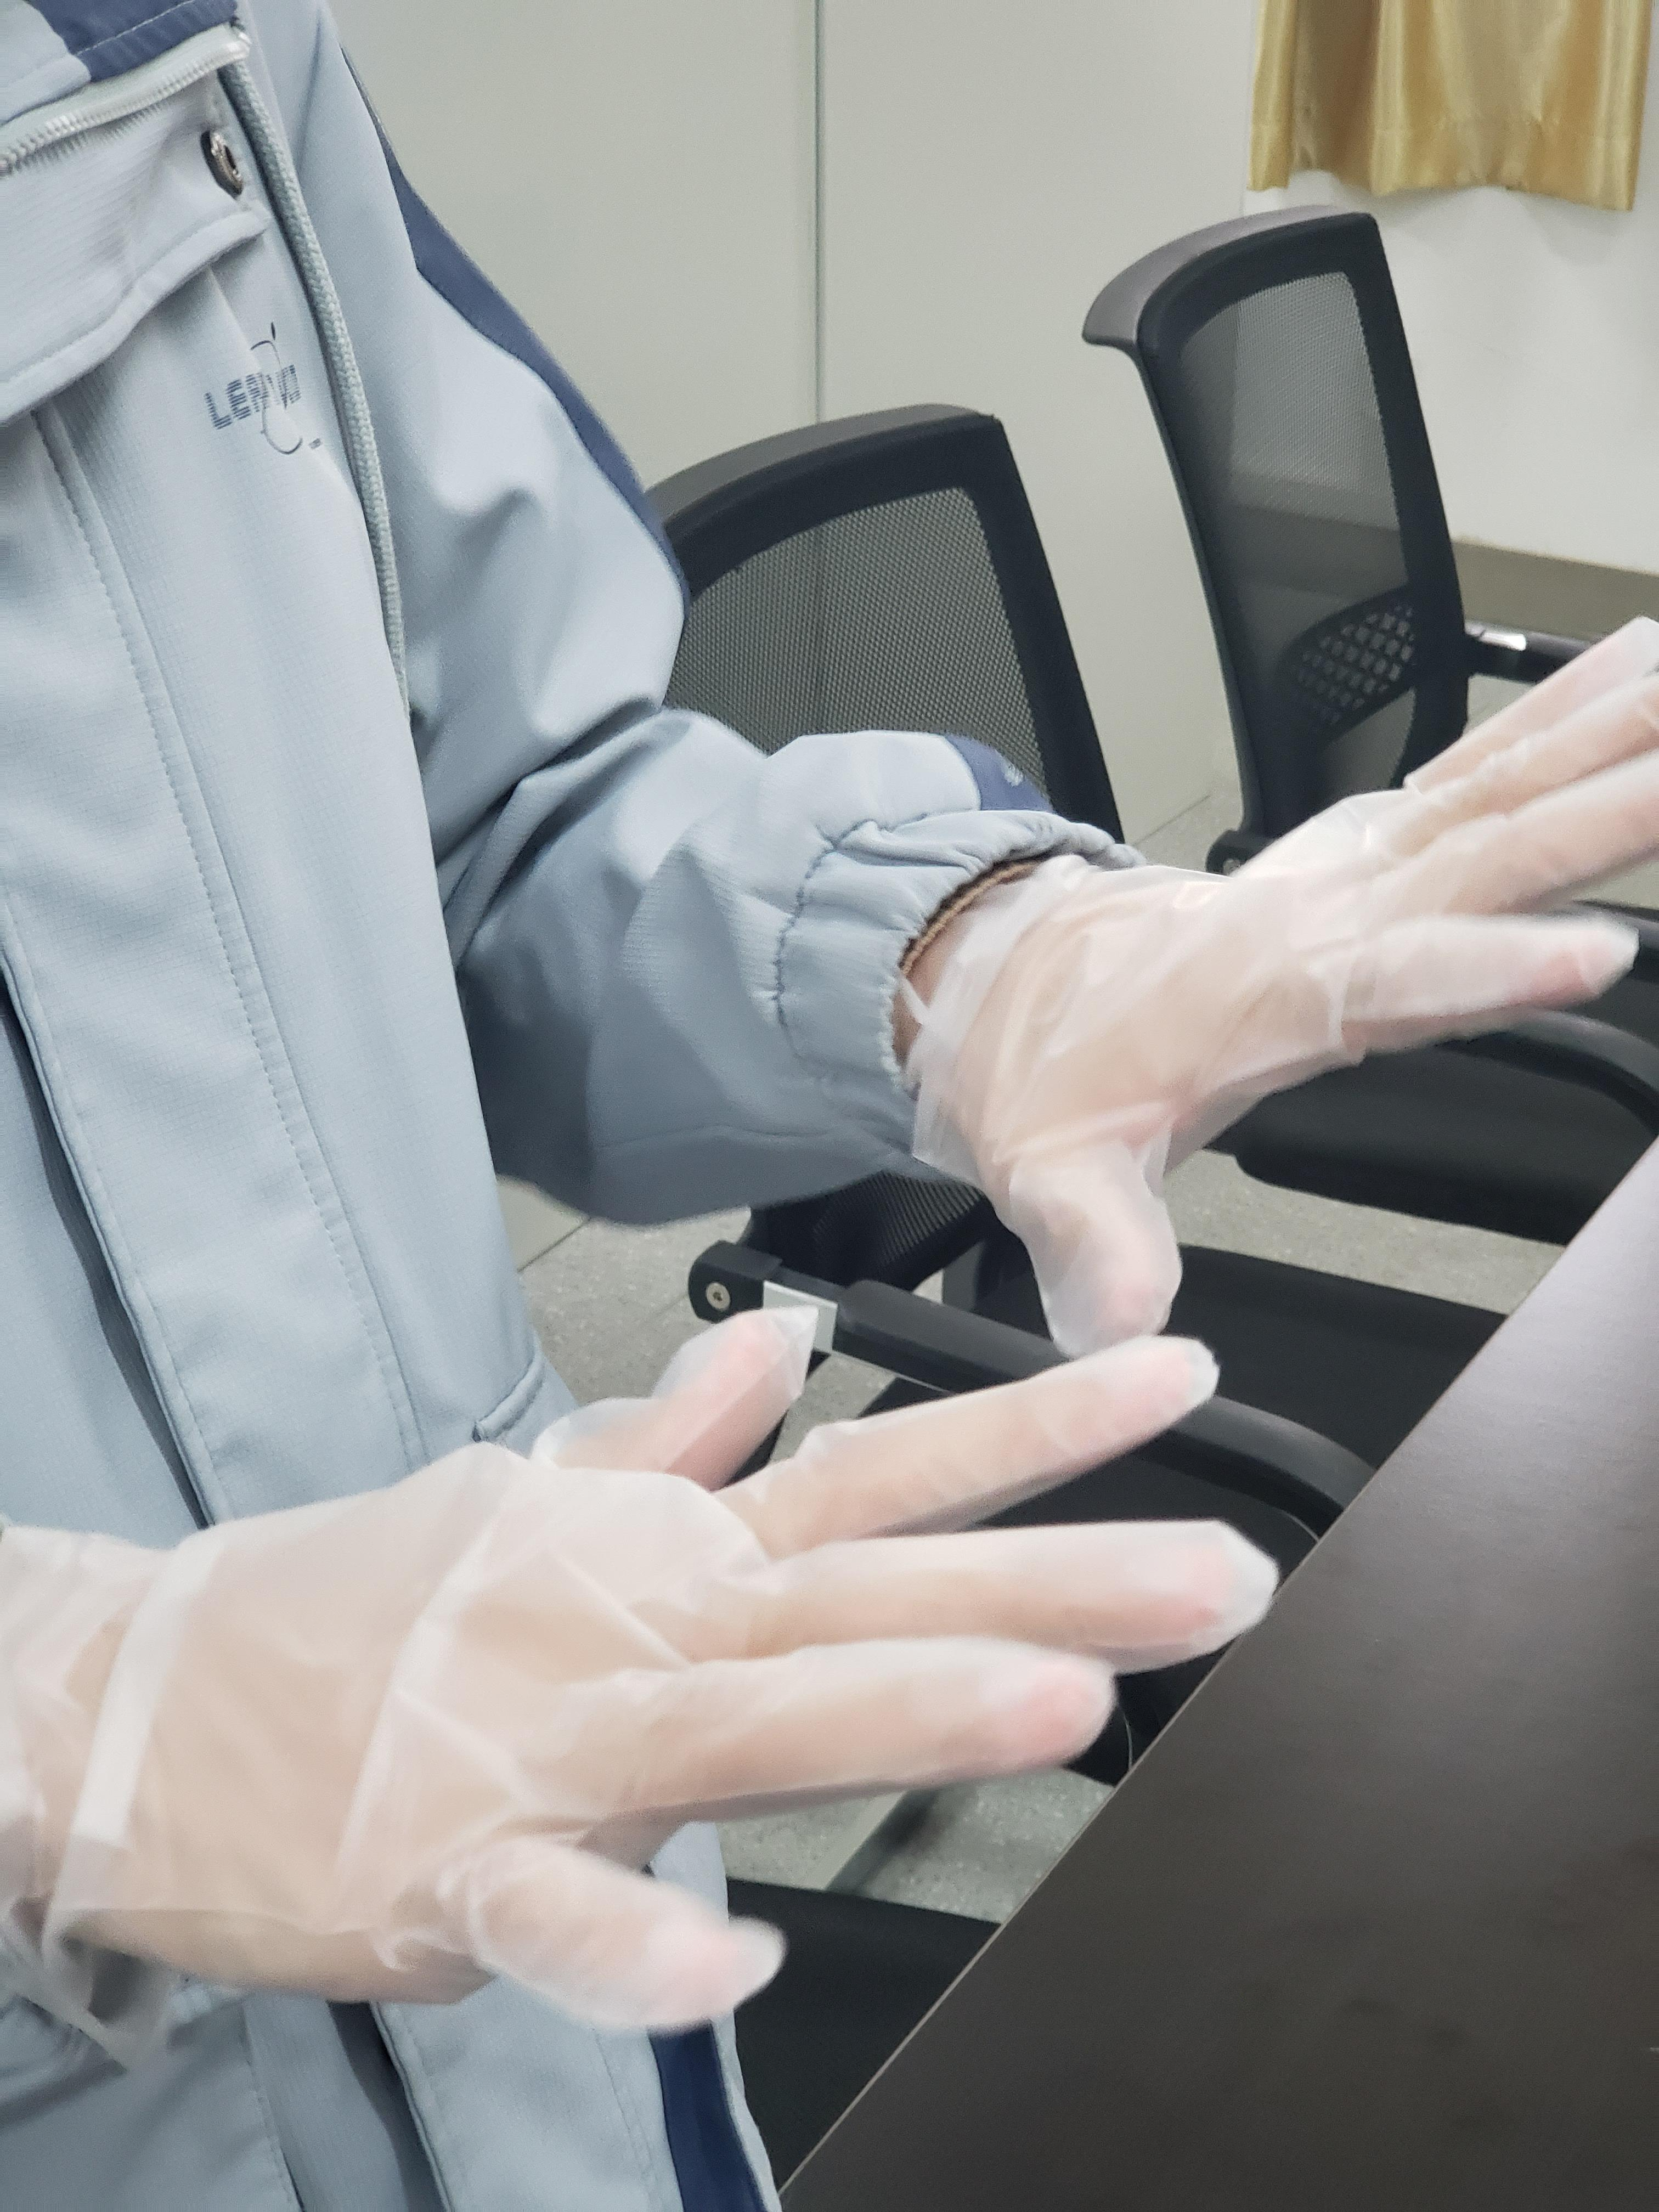gloves: (5, 1291, 1283, 2043), (913, 587, 1654, 1357)
